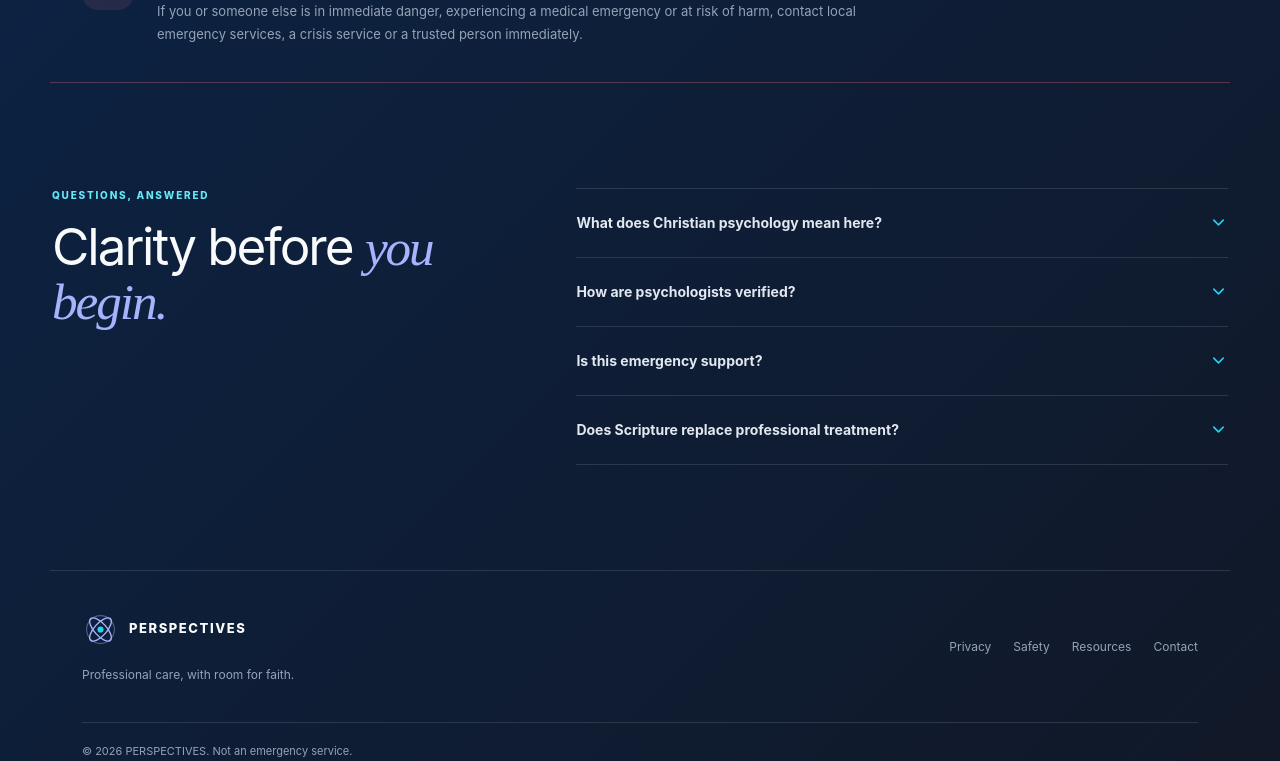
PERSPECTIVES landing page › opens FAQ answers without navigating away
(page scrolled)
Click the button "Is this emergency support?" at x=669, y=361, box [576, 327, 1228, 395]
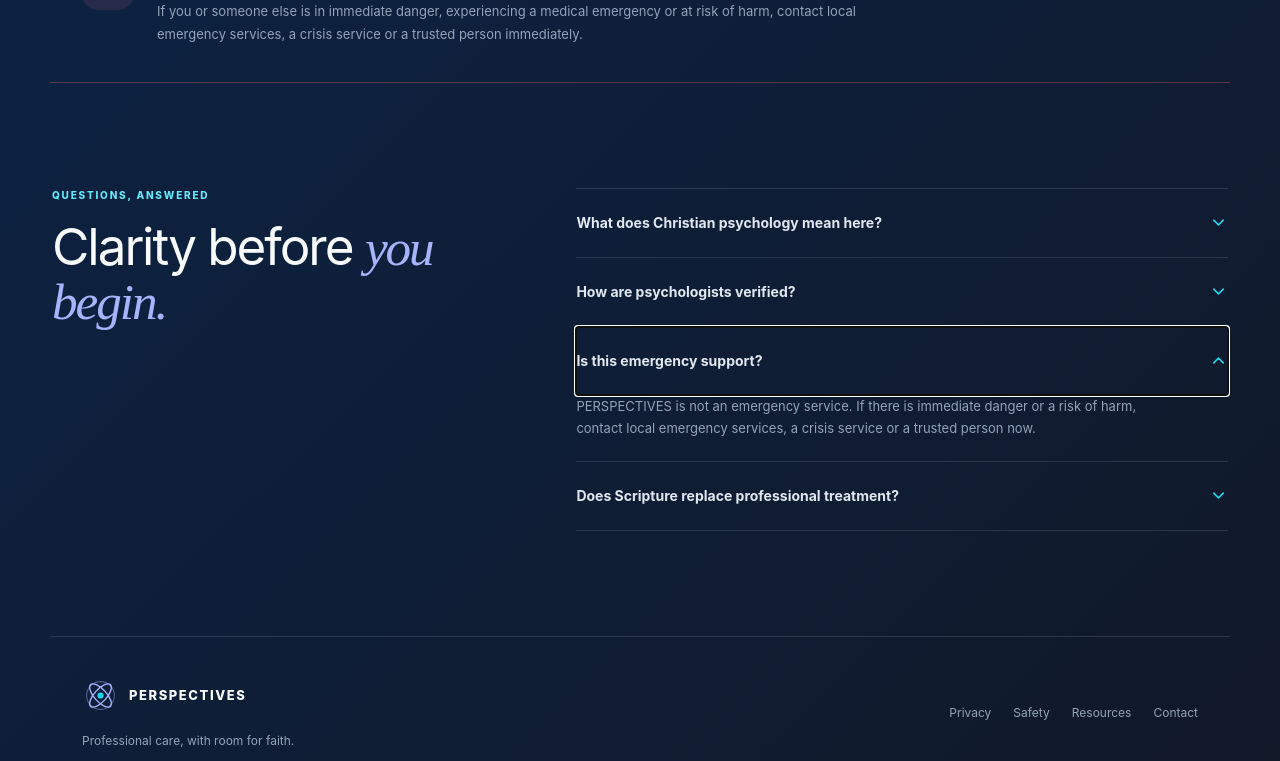
Expected: the text with test id "faq-emergency-answer" is shown, [576, 398, 1136, 436]
Expected: the button "Is this emergency support?" is expanded, [576, 327, 1228, 395]
